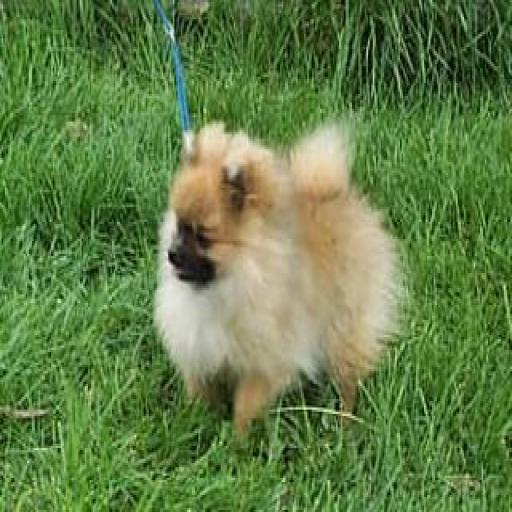dog_face: (163, 134, 266, 288)
